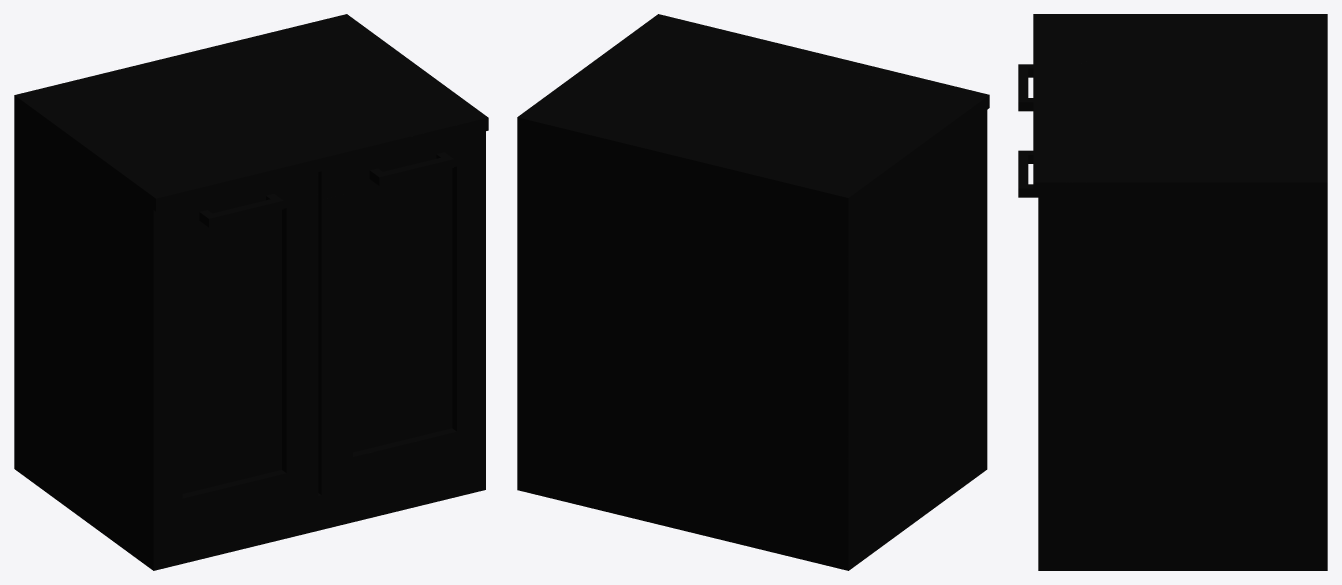
The model's file is cabinet2.fbx.
3 views of the same model, side by side, from view 1: azimuth 30°, elevation 25°; view 2: azimuth 150°, elevation 25°; view 3: azimuth 270°, elevation 25° (orthographic). The views are drawn at different scales.
Parts seen in each view (by area): view 1: node_id4 (×4), node_id11, node_id19, node_id18, node_id20 (×2), node_id10, node_id23 (×2), node_id5, node_id24, node_id16, node_id17, node_id9 (+1 smaller); view 2: node_id4 (×2), node_id11 (×2), node_id12, node_id13, node_id24 (×2), node_id21, node_id8 (×2), node_id19, node_id18, node_id10, node_id23, node_id5 (+2 smaller); view 3: node_id4 (×4), node_id18 (×2), node_id11 (×2), node_id19, node_id17 (×2), node_id16, node_id5, node_id15, node_id24, node_id21, node_id14.
Part boxes in pixels (box(x1,y1,x2,y2)): node_id4 (×4): box(14, 14, 488, 570); node_id11: box(152, 14, 411, 106); node_id19: box(96, 97, 308, 161); node_id18: box(325, 62, 487, 155); node_id20 (×2): box(82, 145, 275, 278); node_id10: box(85, 237, 182, 461); node_id23 (×2): box(149, 455, 253, 570); node_id5: box(269, 104, 373, 182); node_id24: box(24, 79, 96, 143); node_id16: box(335, 222, 485, 408); node_id17: box(312, 343, 485, 461); node_id9: box(282, 244, 330, 426); node_id4 (×2): box(517, 43, 989, 570); node_id11 (×2): box(517, 69, 734, 288); node_id12: box(582, 254, 783, 446); node_id13: box(761, 309, 928, 500); node_id24 (×2): box(770, 149, 920, 340); node_id21: box(517, 396, 670, 517); node_id8 (×2): box(679, 166, 781, 289); node_id19: box(725, 72, 901, 144); node_id18: box(583, 14, 774, 79); node_id10: box(919, 179, 987, 361); node_id23: box(764, 362, 987, 570); node_id5: box(718, 42, 869, 84); node_id4 (×4): box(1018, 14, 1327, 570); node_id18 (×2): box(1033, 123, 1190, 294); node_id11 (×2): box(1148, 82, 1327, 292); node_id19: box(1053, 20, 1242, 119); node_id17 (×2): box(1038, 418, 1143, 570); node_id16: box(1038, 283, 1136, 418); node_id5: box(1033, 75, 1150, 127); node_id15: box(1144, 478, 1269, 570); node_id24: box(1189, 14, 1327, 48); node_id21: box(1266, 494, 1327, 570); node_id14: box(1281, 317, 1327, 465).
Bounding box in the file's own units: 0.4763 × 0.512 × 0.3691.
Materials: 84 (84 with a texture image).
